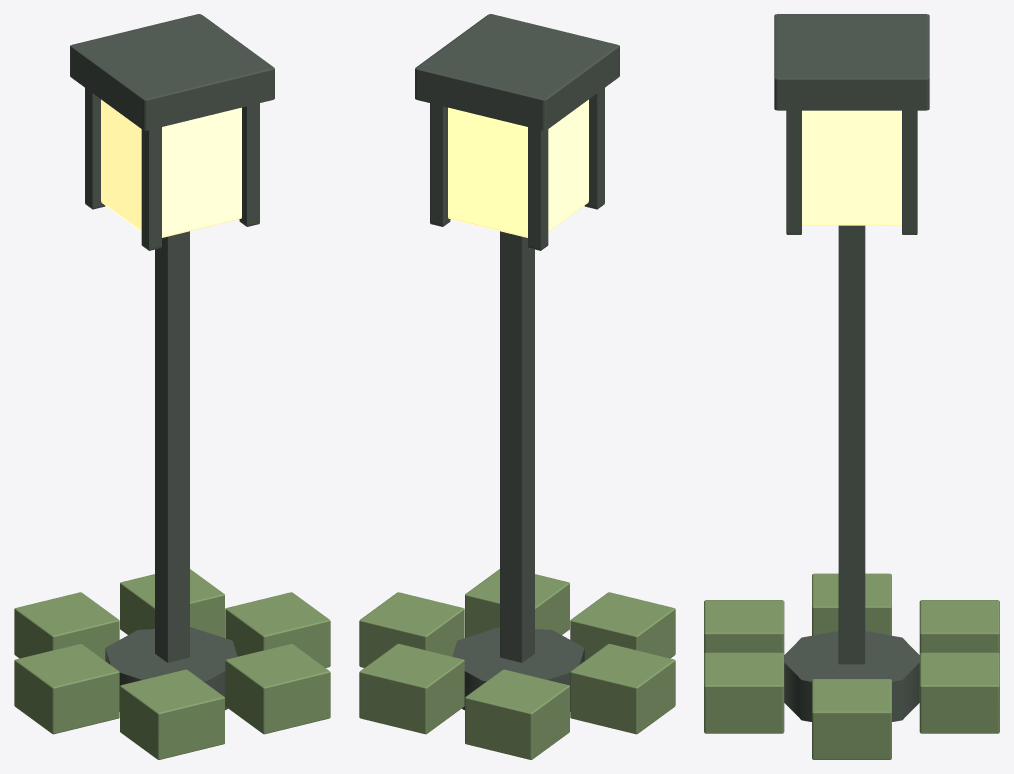
File: gardenlamp-0.glb
The picture shows the model from 3 angles, left to right: view 1: azimuth 30°, elevation 25°; view 2: azimuth 150°, elevation 25°; view 3: azimuth 270°, elevation 25°; orthographic projection. The views are drawn at different scales.
Parts seen in each view (by area): view 1: gardenlamp-0-0; view 2: gardenlamp-0-0; view 3: gardenlamp-0-0.
Part boxes in pixels (bbox=[...]): gardenlamp-0-0: bbox=[14, 14, 330, 759]; gardenlamp-0-0: bbox=[359, 14, 675, 759]; gardenlamp-0-0: bbox=[704, 14, 999, 759].
Bounding box in the file's own units: 0.74 × 1.62 × 0.665.
